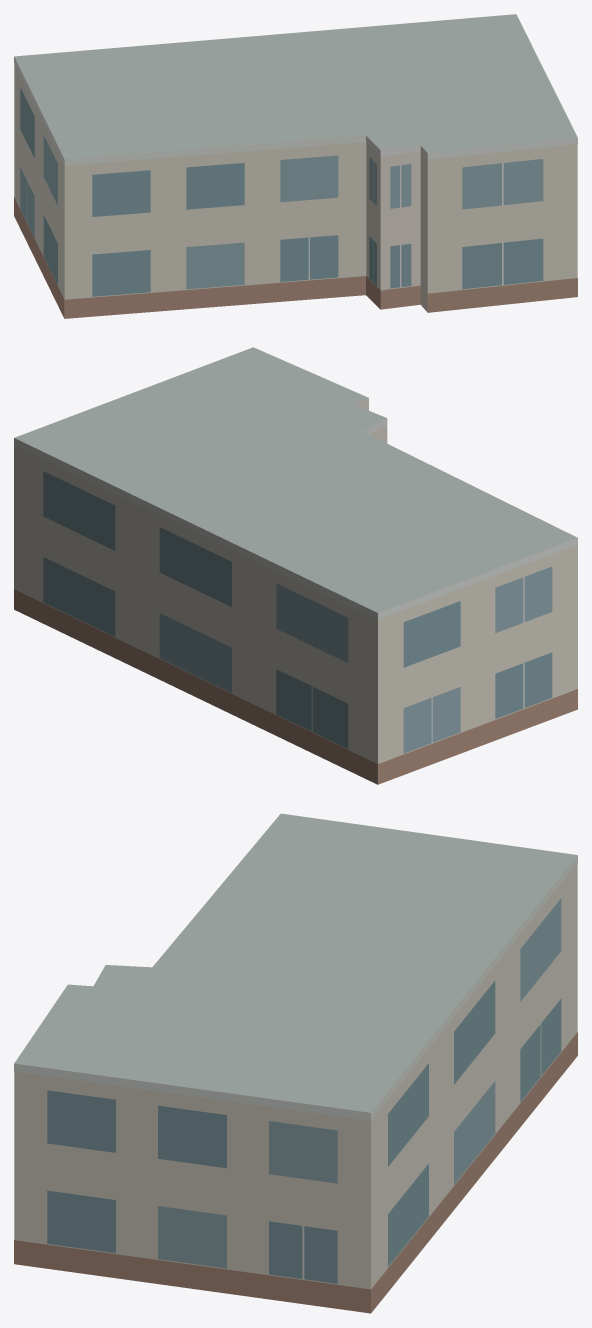
The model's file is survey-upis-32658991.glb.
3 views of the same model, one above another, from view 1: azimuth 30°, elevation 25°; view 2: azimuth 150°, elevation 25°; view 3: azimuth 270°, elevation 25° (orthographic). The views are drawn at different scales.
Parts seen in each view (by area): view 1: survey-upis-32658991.tmp; view 2: survey-upis-32658991.tmp; view 3: survey-upis-32658991.tmp.
Part boxes in pixels (x1,y1,x2,y2): survey-upis-32658991.tmp: (14, 14, 577, 318); survey-upis-32658991.tmp: (14, 347, 577, 784); survey-upis-32658991.tmp: (14, 813, 577, 1313).
Size of the model in its own units: 19.53 by 6.1 by 15.55.
